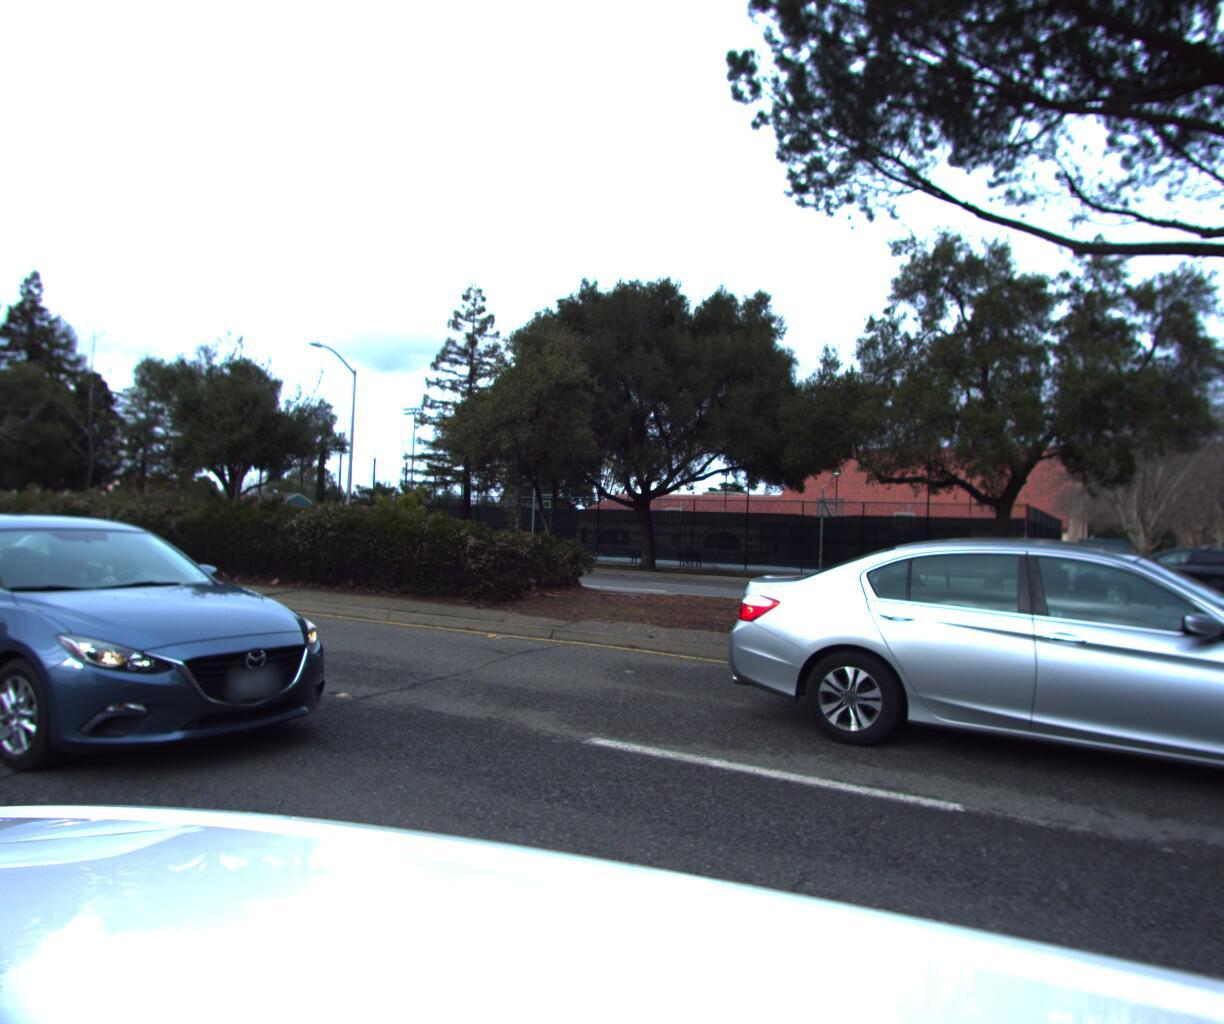car: (687, 491, 1224, 864), (0, 504, 367, 822), (1059, 536, 1224, 624)
